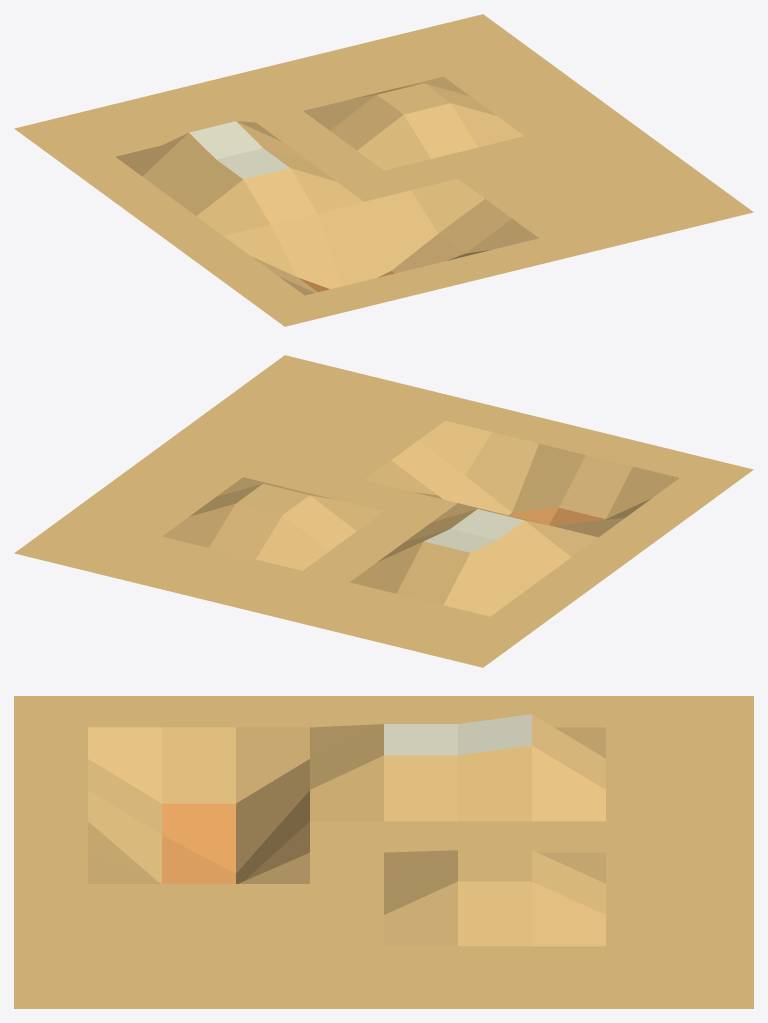
File: TerrainSample.fbx
3 views of the same model, one above another, from view 1: azimuth 30°, elevation 25°; view 2: azimuth 150°, elevation 25°; view 3: azimuth 270°, elevation 25° (orthographic). The views are drawn at different scales.
Visible parts, largest first — view 1: Plane; view 2: Plane; view 3: Plane.
Boxes of the visible parts, x1,y1,x2,y2 form: Plane: (14, 14, 753, 326); Plane: (14, 355, 753, 667); Plane: (14, 696, 753, 1008).
Bounding box in the file's own units: 20000 × 3826 × 20000.
